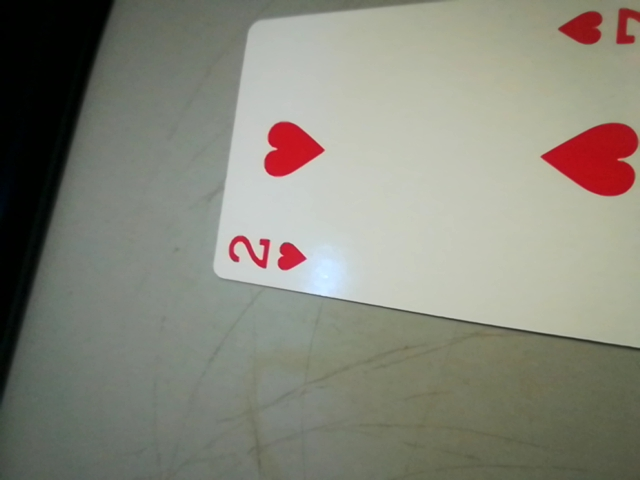hx 2: (213, 229, 310, 285)
